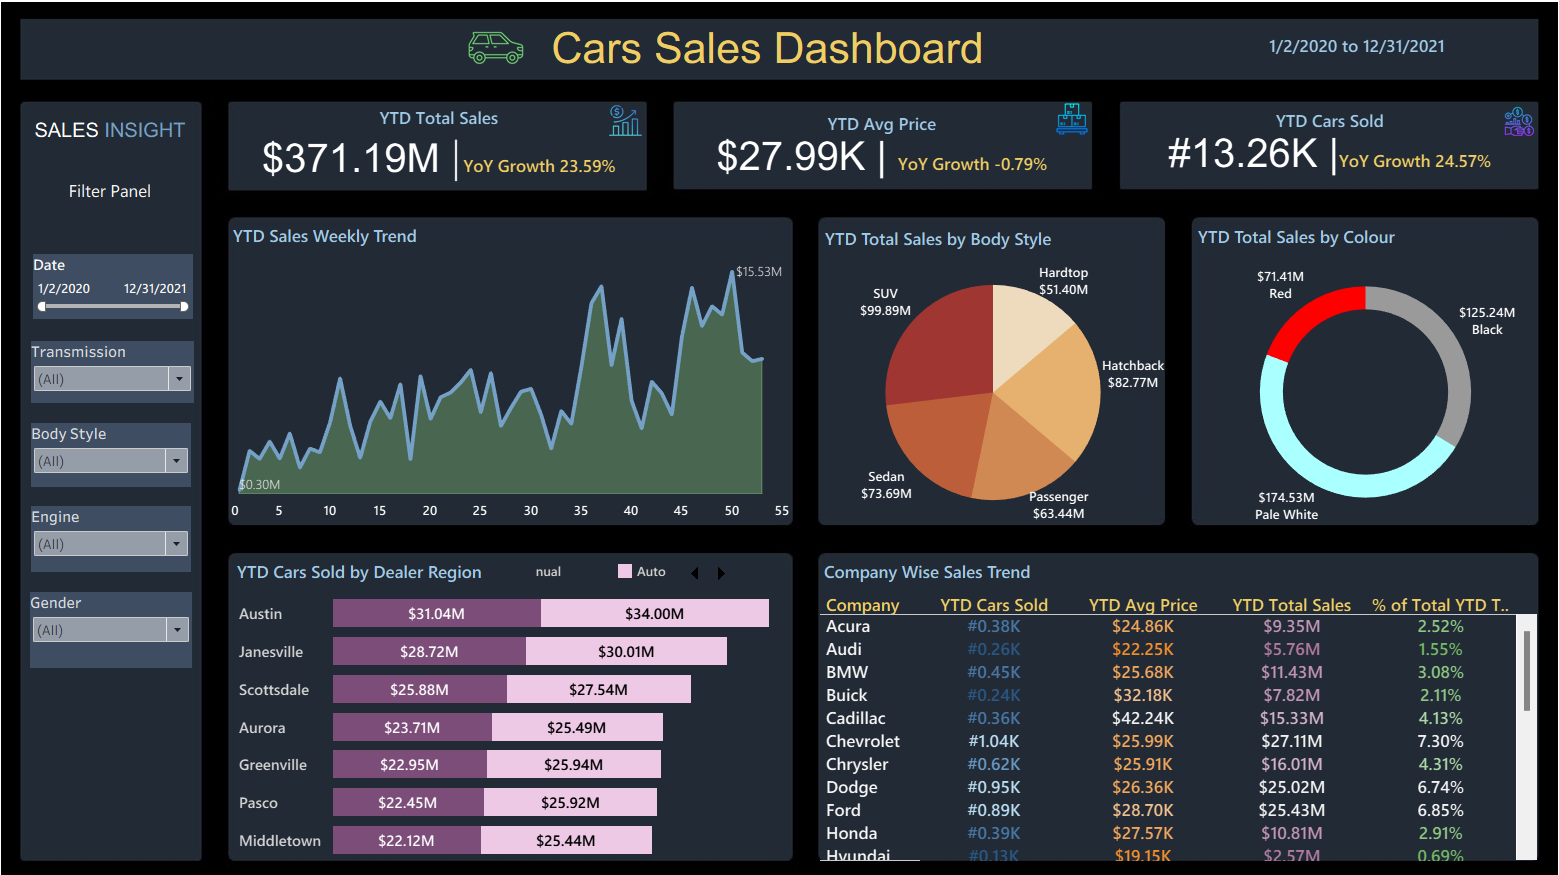

What the dashboard file says about the page in this screenshot:
{"tool":"tableau","page":{"name":"Dashboard 1","canvas":[1600,900],"ordinal":0},"visuals":[{"type":"image","param":"C:/Users/User/Downloads/Car Sales Background.jpg","box":[8,8,1584,884]},{"type":"image","param":"C:/Users/User/Downloads/Car Icon.png","box":[456,25,120,65]},{"type":"text","box":[568,34,440,49]},{"type":"worksheet","title":"Date Range","mark":"Automatic","box":[1215,44,324,24]},{"type":"worksheet","title":"YTD Cars Sold","mark":"Automatic","box":[1141,109,418,88]},{"type":"worksheet","title":"YTD Total Sales","mark":"Automatic","box":[250,111,418,90]},{"type":"image","param":"C:/Users/User/Downloads/Sales Icon.png","box":[625,112,40,36]},{"type":"worksheet","title":"YTD Avg Price","mark":"Automatic","box":[693,112,417,87]},{"type":"image","param":"C:/Users/User/Downloads/Avg Price Icon.png","box":[1075,112,34,33]},{"type":"image","param":"C:/Users/User/Downloads/Cars Sold Icon.png","box":[1522,116,35,30]},{"type":"text","box":[51,122,158,37]},{"type":"text","box":[80,185,100,30]},{"type":"worksheet","title":"YTD Sales Weekly Trend","mark":"Area","rows":["Calculation_1786240236028182528","Calculation_1786240236028182528"],"cols":["Date"],"box":[249,230,563,304]},{"type":"worksheet","title":"YTD Total Sales by Colour","mark":"Pie","rows":["Calculation_1786240236050636811","Calculation_1786240236050636811"],"box":[1214,231,343,304]},{"type":"worksheet","title":"YTD Total Sales by Body Style","mark":"Pie","box":[841,233,344,301]},{"type":"filter","title":"YTD Sales Weekly Trend","param":"[federated.0n07iec1o8cdil10nmu570rstoal].[none:Date:qk]","box":[53,264,160,65]},{"type":"filter","title":"YTD Sales Weekly Trend","param":"[federated.0n07iec1o8cdil10nmu570rstoal].[none:Transmission:nk]","box":[51,351,163,62]},{"type":"filter","title":"YTD Sales Weekly Trend","param":"[federated.0n07iec1o8cdil10nmu570rstoal].[none:Body Style:nk]","box":[51,433,160,64]},{"type":"filter","title":"YTD Sales Weekly Trend","param":"[federated.0n07iec1o8cdil10nmu570rstoal].[none:Engine:nk]","box":[51,516,160,66]},{"type":"worksheet","title":"YTD Cars Sold by Dealer Region","mark":"Automatic","rows":["Dealer_Region"],"cols":["Calculation_1786240236028182528"],"box":[253,566,558,303]},{"type":"worksheet","title":"Company Wise Sales Trend","mark":"Automatic","rows":["Company"],"box":[840,566,717,305]},{"type":"legend","title":"YTD Cars Sold by Dealer Region","param":"[federated.0n07iec1o8cdil10nmu570rstoal].[none:Transmission:nk]","box":[556,571,201,25]},{"type":"filter","title":"YTD Sales Weekly Trend","param":"[federated.0n07iec1o8cdil10nmu570rstoal].[none:Gender:nk]","box":[50,602,162,76]}]}

Visuals, with their boxes in screenshot pixels (x1, y1, x2, y2), scaled from the page's 1600x900 canvas onto the 1559x875 screenshot:
image: x1=8, y1=8, x2=1551, y2=867
image: x1=444, y1=24, x2=561, y2=88
text: x1=553, y1=33, x2=982, y2=81
"Date Range" worksheet: x1=1184, y1=43, x2=1500, y2=66
"YTD Cars Sold" worksheet: x1=1112, y1=106, x2=1519, y2=192
"YTD Total Sales" worksheet: x1=244, y1=108, x2=651, y2=195
image: x1=609, y1=109, x2=648, y2=144
"YTD Avg Price" worksheet: x1=675, y1=109, x2=1082, y2=193
image: x1=1047, y1=109, x2=1081, y2=141
image: x1=1483, y1=113, x2=1517, y2=142
text: x1=50, y1=119, x2=204, y2=155
text: x1=78, y1=180, x2=175, y2=209
"YTD Sales Weekly Trend" worksheet (Area marks): x1=243, y1=224, x2=791, y2=519
"YTD Total Sales by Colour" worksheet (Pie marks): x1=1183, y1=225, x2=1517, y2=520
"YTD Total Sales by Body Style" worksheet (Pie marks): x1=819, y1=227, x2=1155, y2=519
"YTD Sales Weekly Trend" filter: x1=52, y1=257, x2=208, y2=320
"YTD Sales Weekly Trend" filter: x1=50, y1=341, x2=209, y2=402
"YTD Sales Weekly Trend" filter: x1=50, y1=421, x2=206, y2=483
"YTD Sales Weekly Trend" filter: x1=50, y1=502, x2=206, y2=566
"YTD Cars Sold by Dealer Region" worksheet: x1=247, y1=550, x2=790, y2=845
"Company Wise Sales Trend" worksheet: x1=818, y1=550, x2=1517, y2=847
"YTD Cars Sold by Dealer Region" legend: x1=542, y1=555, x2=738, y2=579
"YTD Sales Weekly Trend" filter: x1=49, y1=585, x2=207, y2=659
